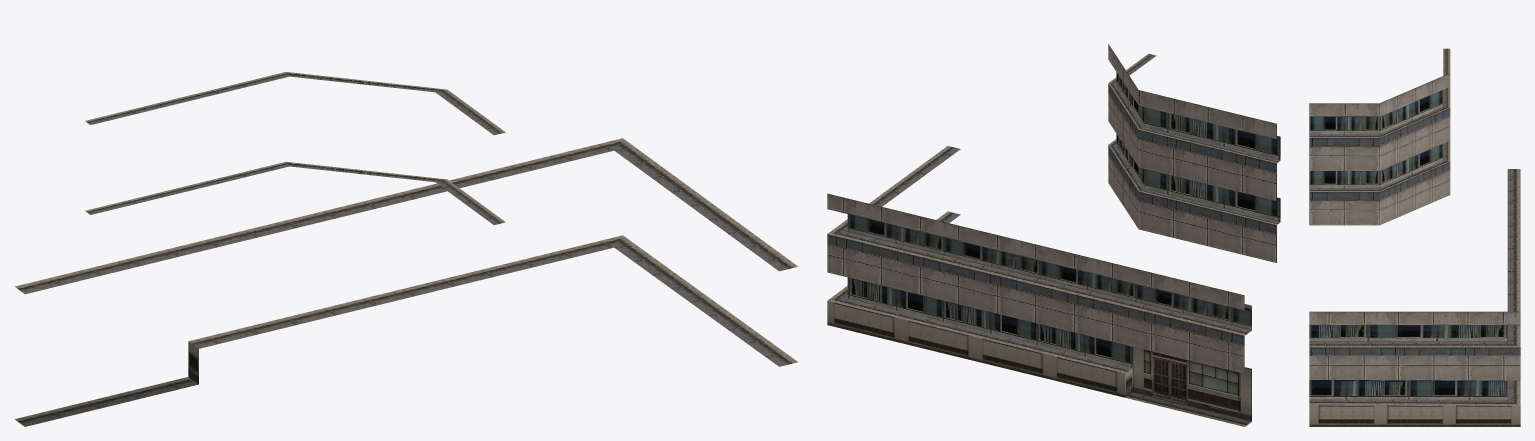
The model's file is M2Zone1_OfficeBlock1.glb.
3 views of the same model, side by side, from view 1: azimuth 30°, elevation 25°; view 2: azimuth 150°, elevation 25°; view 3: azimuth 270°, elevation 25° (orthographic). The views are drawn at different scales.
Parts seen in each view (by area): view 1: M2ZONE1_OFFICEBLOCK1; view 2: M2ZONE1_OFFICEBLOCK1; view 3: M2ZONE1_OFFICEBLOCK1.
Boxes of the visible parts, x1,y1,x2,y2 form: M2ZONE1_OFFICEBLOCK1: (14, 72, 798, 426); M2ZONE1_OFFICEBLOCK1: (827, 44, 1280, 426); M2ZONE1_OFFICEBLOCK1: (1309, 48, 1520, 426).
Bounding box in the file's own units: 28 × 17.42 × 14.
5 materials, 5 textured.
